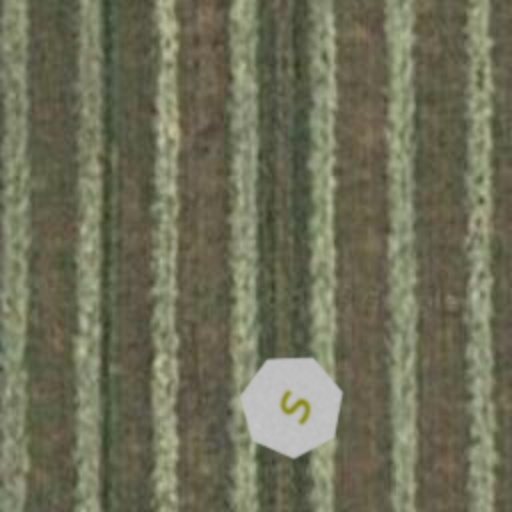heptagon: (222, 336, 362, 476)
